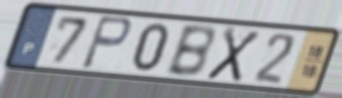0: (130, 21, 173, 73)
2: (250, 31, 296, 86)
7: (51, 15, 91, 65)
B: (162, 24, 217, 80)
P: (78, 14, 134, 72)
X: (203, 25, 263, 85)
